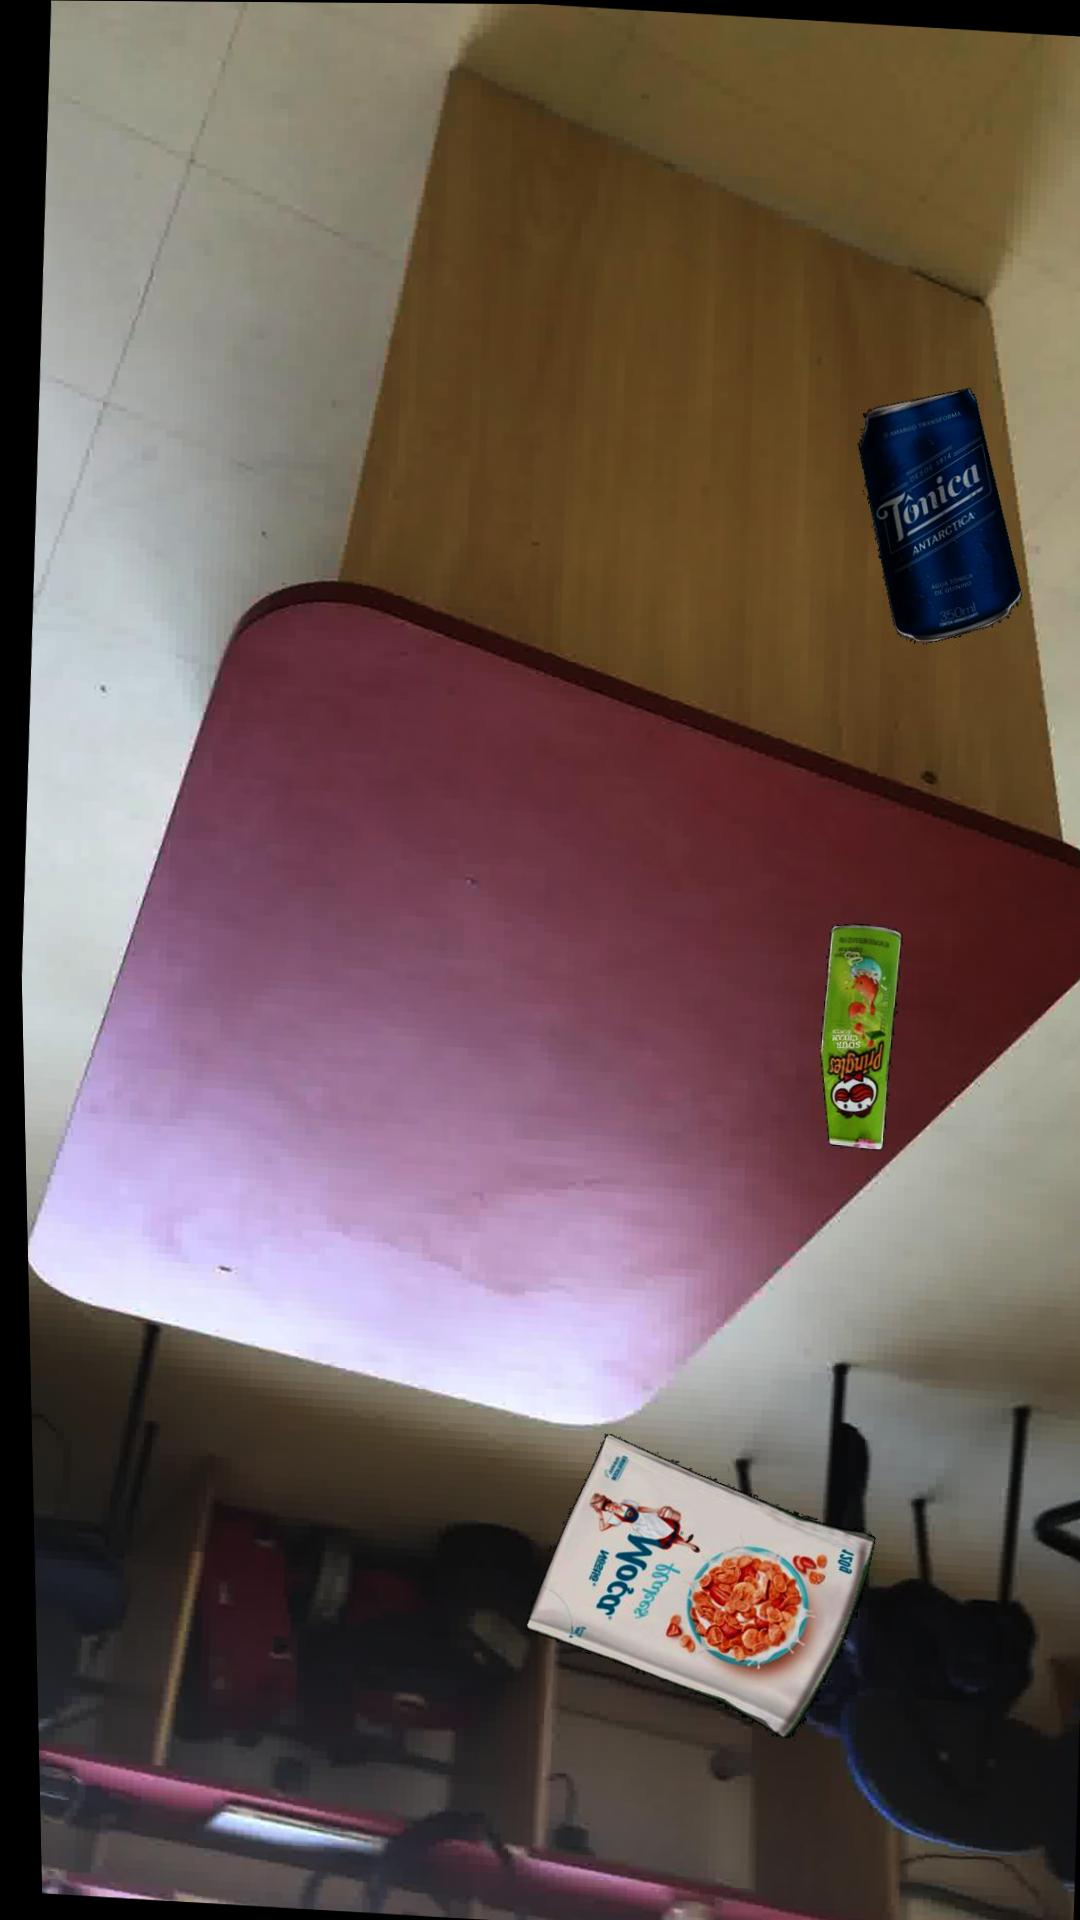corn flakes: (518, 1433, 869, 1737)
pringles: (815, 923, 898, 1149)
tonic: (856, 386, 1019, 641)
